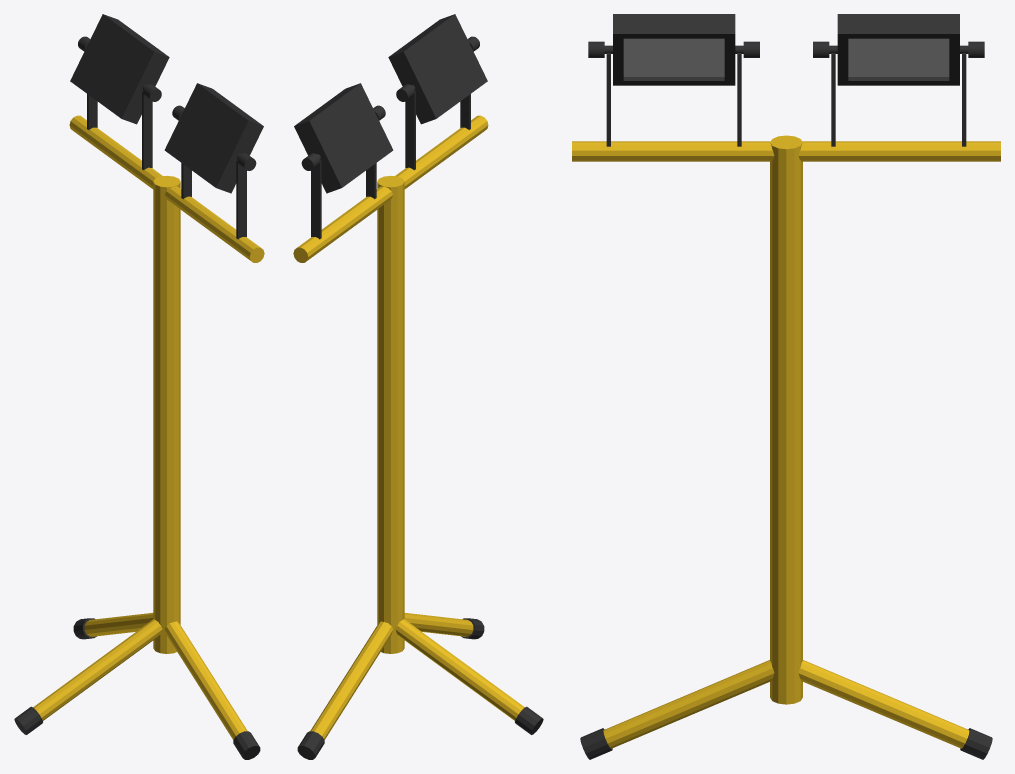
The model's file is ConstuctionLight(Menu).fbx.
3 views of the same model, side by side, from view 1: azimuth 30°, elevation 25°; view 2: azimuth 150°, elevation 25°; view 3: azimuth 270°, elevation 25° (orthographic). The views are drawn at different scales.
Visible parts, largest first — view 1: Cube, Cube.005, Cube.010, Cube.004, Cube.001, Cube.002, Cube.003, Cube.007, Cube.008, Cube.011, Cube.013, Cube.006 (+1 smaller); view 2: Cube, Cube.010, Cube.005, Cube.004, Cube.001, Cube.003, Cube.002, Cube.009, Cube.006, Cube.012, Cube.013, Cube.008 (+1 smaller); view 3: Cube, Cube.004, Cube.005, Cube.010, Light1, Light2, Cube.002, Cube.003, Cube.007, Cube.009, Cube.006, Cube.008.
Part boxes in pixels (bbox=[...]): Cube: bbox=[153, 176, 180, 653]; Cube.005: bbox=[164, 83, 263, 193]; Cube.010: bbox=[70, 14, 169, 124]; Cube.004: bbox=[69, 115, 264, 262]; Cube.001: bbox=[33, 619, 162, 720]; Cube.002: bbox=[164, 621, 247, 739]; Cube.003: bbox=[84, 613, 153, 636]; Cube.007: bbox=[236, 153, 256, 239]; Cube.008: bbox=[142, 84, 161, 170]; Cube.011: bbox=[233, 731, 260, 759]; Cube.013: bbox=[14, 706, 42, 734]; Cube.006: bbox=[172, 105, 191, 199]; Cube: bbox=[377, 176, 404, 653]; Cube.010: bbox=[294, 83, 393, 193]; Cube.005: bbox=[388, 14, 487, 124]; Cube.004: bbox=[293, 115, 488, 262]; Cube.001: bbox=[395, 619, 524, 720]; Cube.003: bbox=[310, 621, 393, 739]; Cube.002: bbox=[404, 613, 473, 636]; Cube.009: bbox=[301, 153, 321, 239]; Cube.006: bbox=[396, 84, 415, 170]; Cube.012: bbox=[297, 731, 324, 759]; Cube.013: bbox=[515, 706, 543, 734]; Cube.008: bbox=[366, 105, 385, 199]; Cube: bbox=[770, 135, 802, 704]; Cube.004: bbox=[572, 141, 1000, 161]; Cube.005: bbox=[613, 14, 735, 85]; Cube.010: bbox=[837, 14, 959, 85]; Light1: bbox=[623, 38, 724, 76]; Light2: bbox=[848, 38, 949, 76]; Cube.002: bbox=[603, 660, 774, 748]; Cube.003: bbox=[798, 660, 969, 748]; Cube.007: bbox=[588, 41, 612, 146]; Cube.009: bbox=[960, 41, 984, 146]; Cube.006: bbox=[735, 41, 759, 146]; Cube.008: bbox=[813, 41, 837, 146].
Size of the model in its own units: 117 by 405 by 210.
